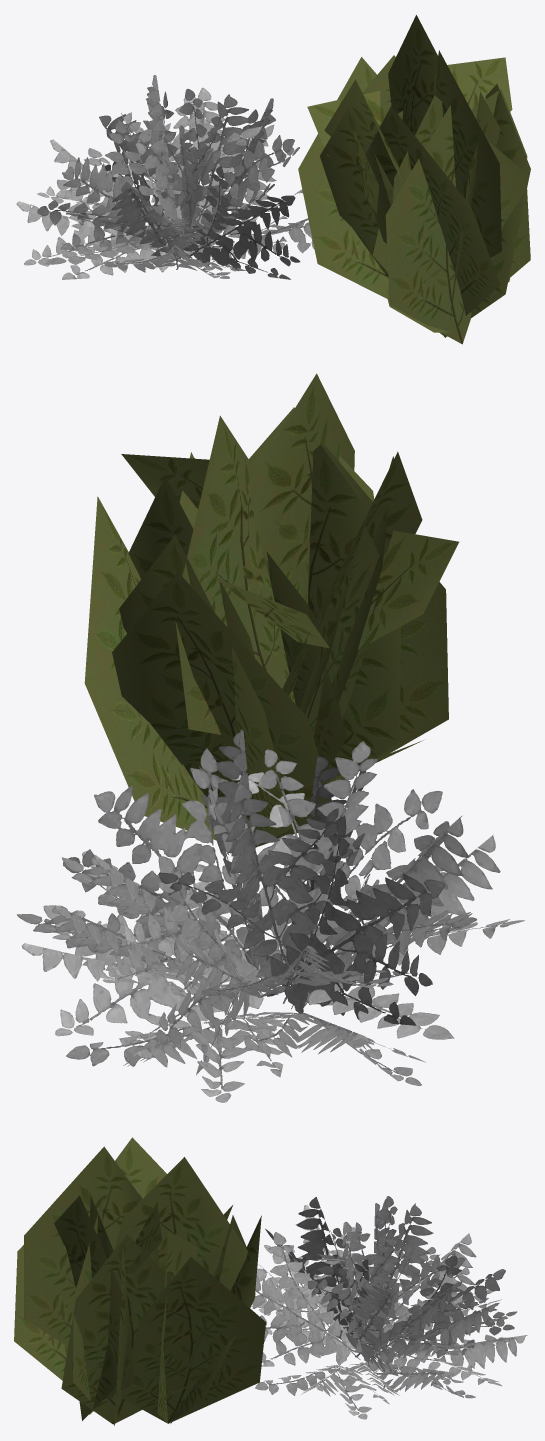
The model's file is Bushes plant 2.fbx.
3 views of the same model, one above another, from view 1: azimuth 30°, elevation 25°; view 2: azimuth 150°, elevation 25°; view 3: azimuth 270°, elevation 25° (orthographic). The views are drawn at different scales.
Parts seen in each view (by area): view 1: Plant_Bush_B_1__5_.001; view 2: Plant_Bush_B_1__5_.001; view 3: Plant_Bush_B_1__5_.001.
Part boxes in pixels (box(x1,y1,x2,y2)): Plant_Bush_B_1__5_.001: box(16, 15, 530, 344); Plant_Bush_B_1__5_.001: box(17, 373, 524, 1102); Plant_Bush_B_1__5_.001: box(14, 1137, 527, 1425).
Bounding box in the file's own units: 258 × 209 × 355.
2 materials, 2 textured.
